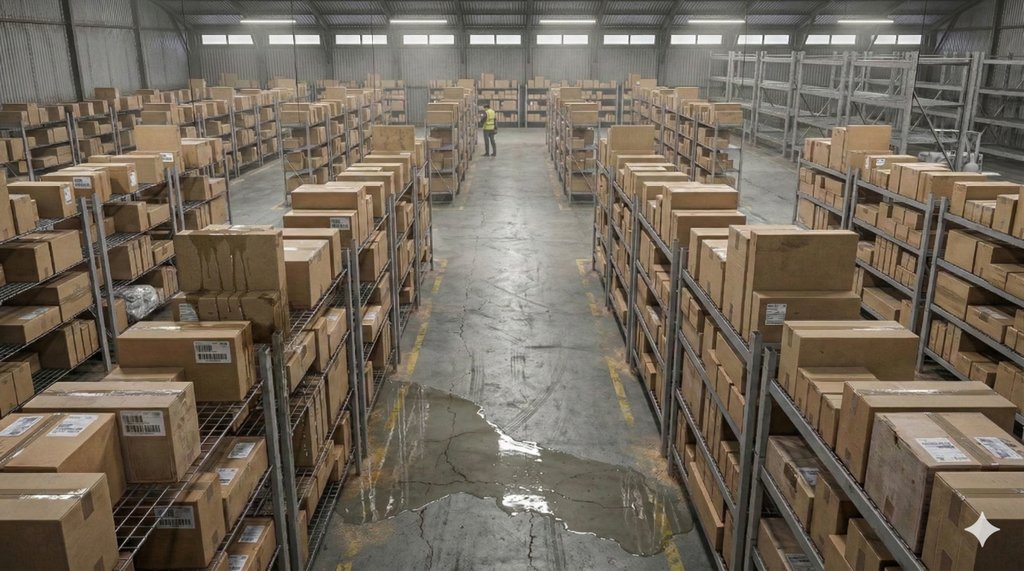empty_shelf: (719, 41, 947, 114), (962, 46, 1023, 153)
person: (479, 103, 507, 165)
safety_vest: (483, 108, 497, 131)
spill: (362, 351, 679, 560)
